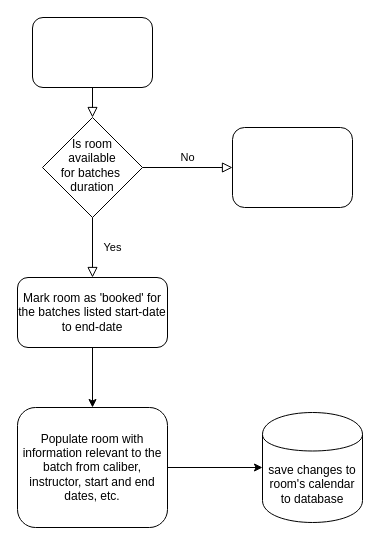
This 380x545 diagram has some shape labels left out. The shapes that lost their labels are listed below. From the top down, each one's centre as x and y in pixels, then its label:
At point (92, 52): "User submits room assignment with a selected batch from caliber".
At point (292, 167): "Reject room assignment, room is unavailable for this batch, scheduling conflict".
